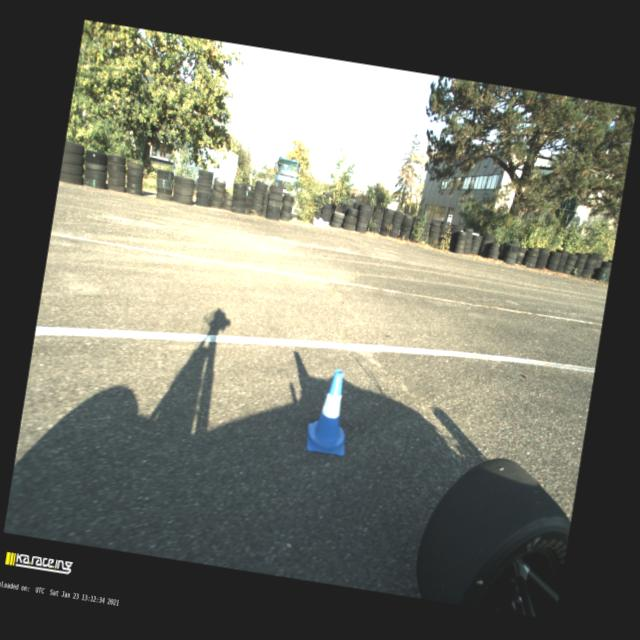blue_cone: (304, 366, 358, 458)
